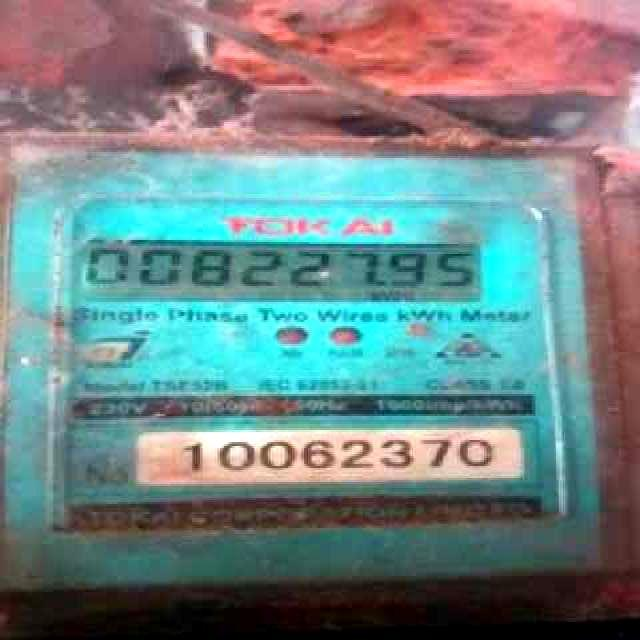LCD: (69, 228, 499, 315)
